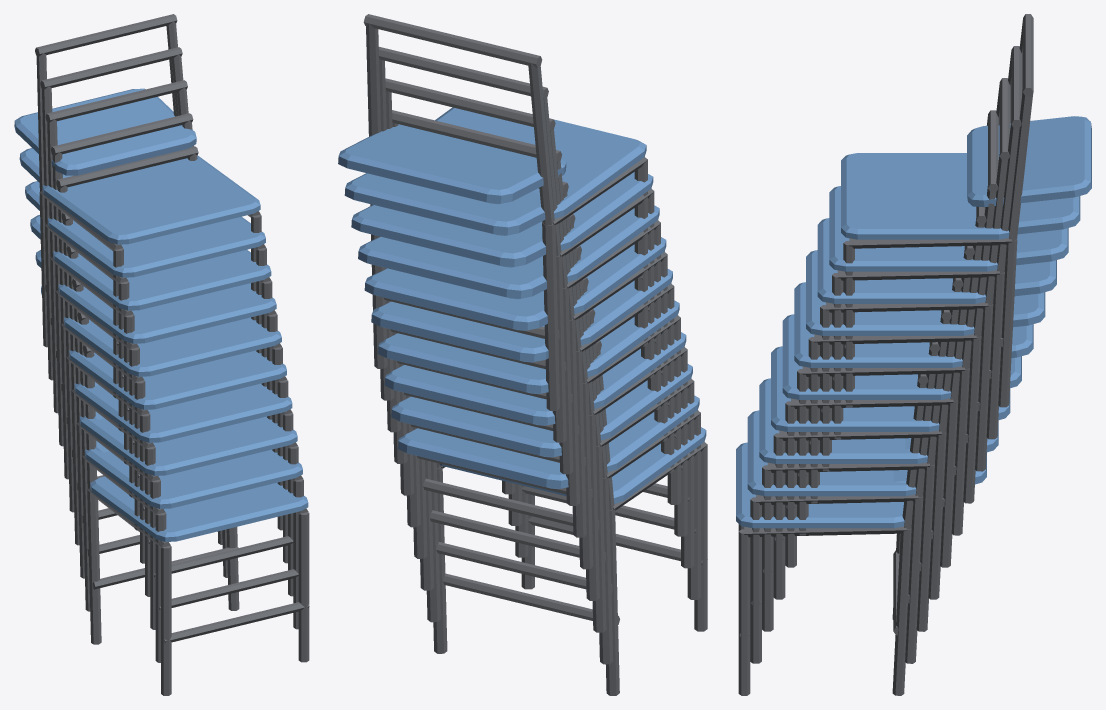
The picture shows the model from 3 angles, left to right: view 1: azimuth 30°, elevation 25°; view 2: azimuth 150°, elevation 25°; view 3: azimuth 270°, elevation 25°; orthographic projection. The views are drawn at different scales.
Parts seen in each view (by area): view 1: stacking-chair-stack; view 2: stacking-chair-stack; view 3: stacking-chair-stack.
Part boxes in pixels (x1,y1,x2,y2): stacking-chair-stack: (14, 14, 309, 695); stacking-chair-stack: (338, 14, 707, 695); stacking-chair-stack: (736, 14, 1091, 695).
Bounding box in the file's own units: 0.46 × 1.61 × 0.855.
